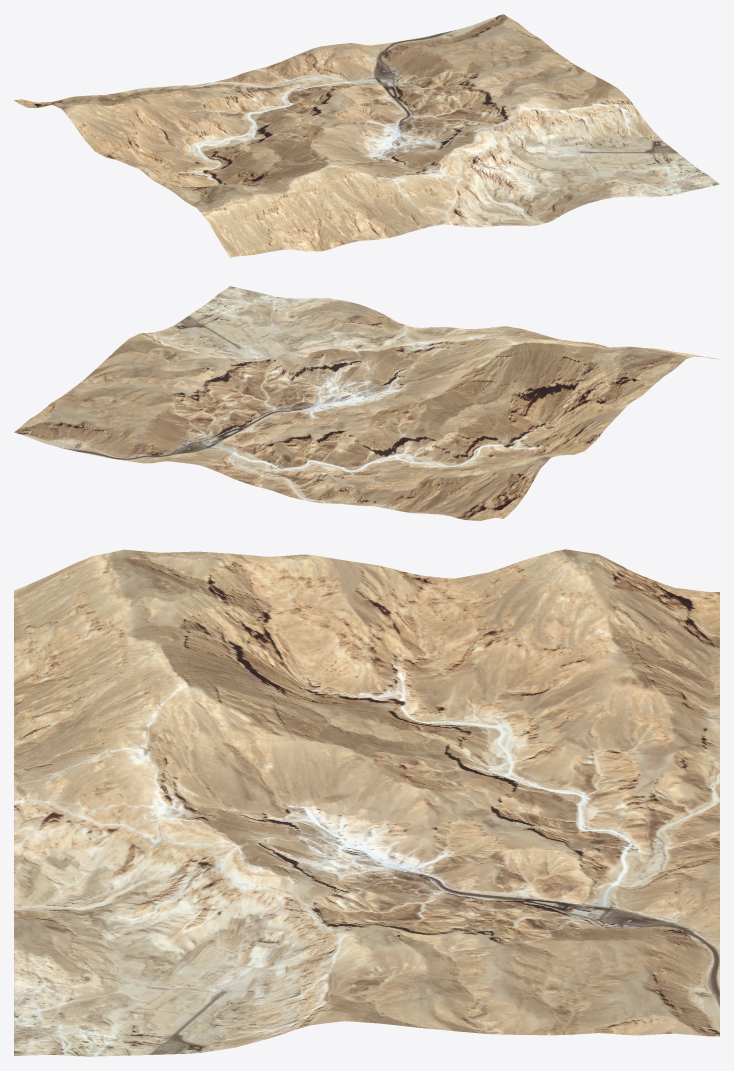
Rendered from valley.glb.
3 views of the same model, one above another, from view 1: azimuth 30°, elevation 25°; view 2: azimuth 150°, elevation 25°; view 3: azimuth 270°, elevation 25° (orthographic). The views are drawn at different scales.
Parts seen in each view (by area): view 1: Object_2; view 2: Object_2; view 3: Object_2.
Part boxes in pixels (x1=…): Object_2: x1=14, y1=14, x2=719, y2=257; Object_2: x1=14, y1=286, x2=717, y2=520; Object_2: x1=14, y1=549, x2=719, y2=1056.
Bounding box in the file's own units: 2599 × 370 × 1987.
Materials: 1 (1 with a texture image).
